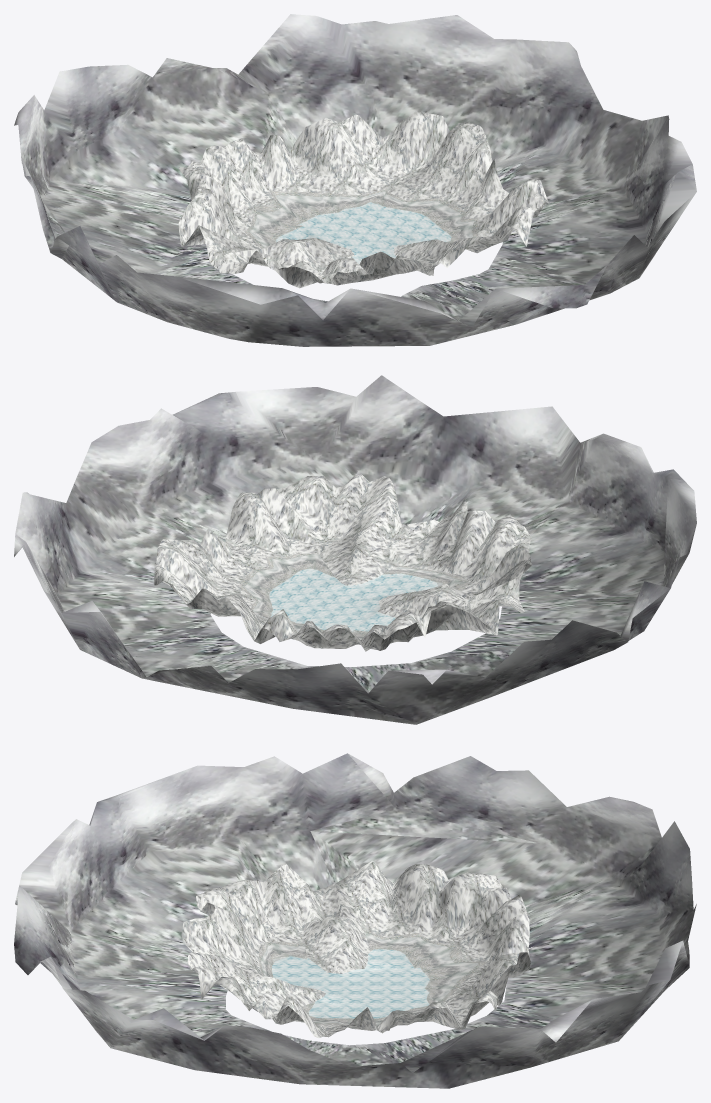
File: ENVO_IcyLake.obj
3 renders of one model, top to bottom at view 1: azimuth 30°, elevation 25°; view 2: azimuth 150°, elevation 25°; view 3: azimuth 270°, elevation 25°, orthographic.
Parts seen in each view (by area): view 1: IcyLake; view 2: IcyLake; view 3: IcyLake.
Part boxes in pixels (<box>): IcyLake: <box>14,14,696,346</box>; IcyLake: <box>14,375,696,724</box>; IcyLake: <box>14,753,696,1088</box>.
Size of what is drawn, in the model's own units: 24630 by 3753 by 24927.
Materials: 4 (4 with a texture image).
